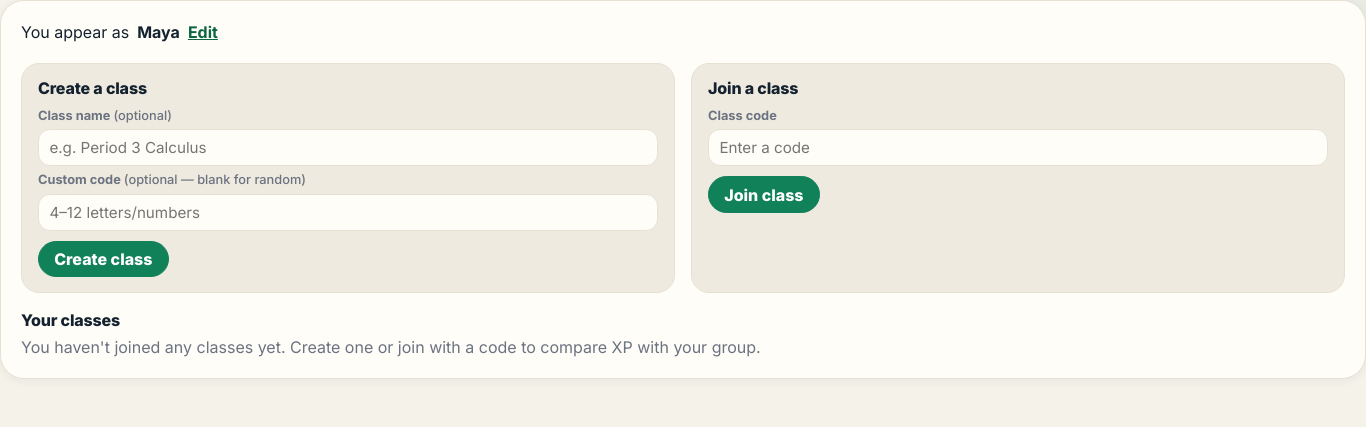
it: ClassesPanel create › surfaces a duplicate-code error from the data layer
Type "DUPE12" into the field labelled "Custom code (optional — blank for random)" at (348, 212), box [38, 194, 658, 231]
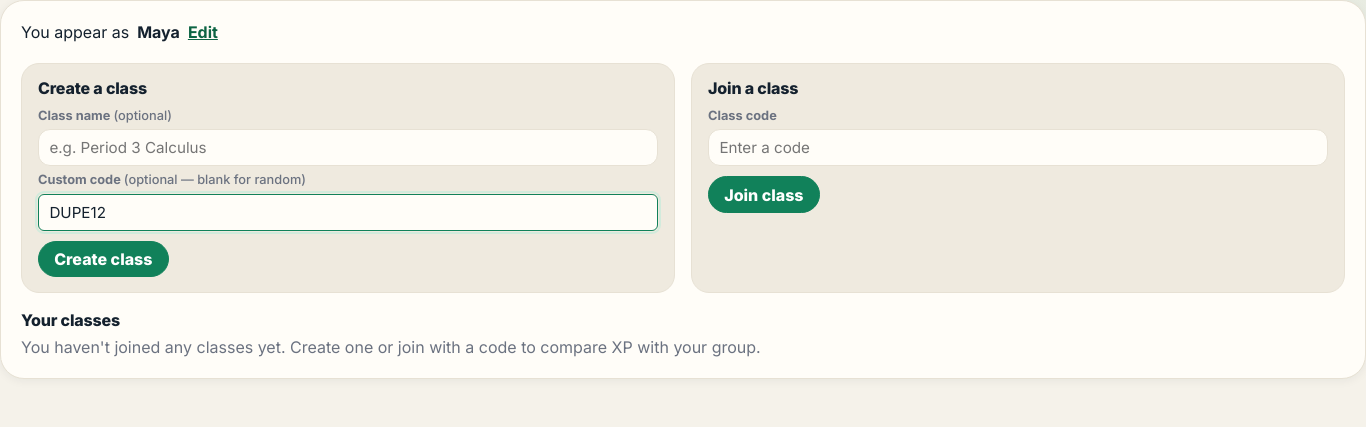
Click the button "Create class" at (103, 259), box [38, 241, 169, 278]
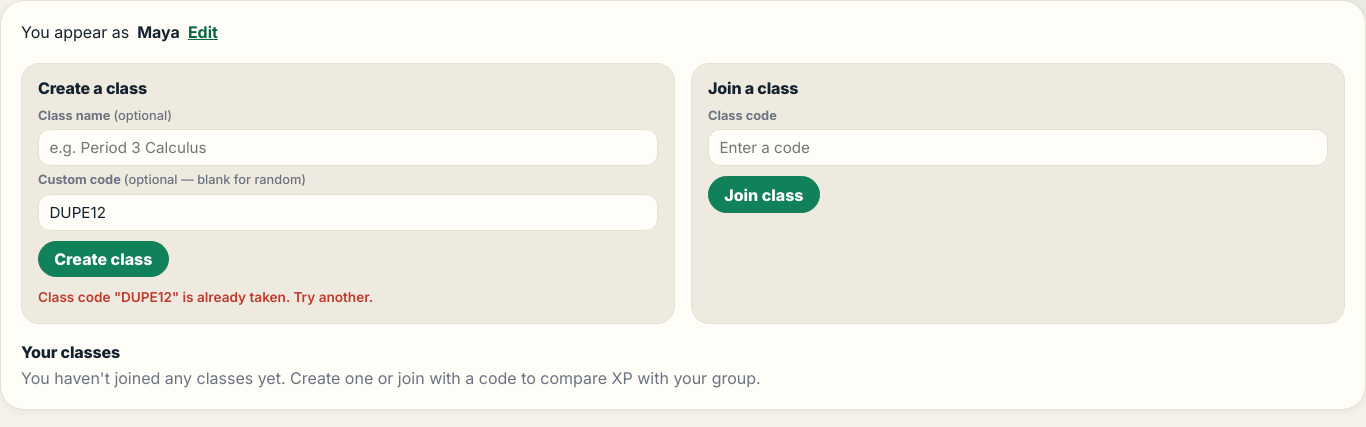
Check: the message shows "already taken", box [38, 289, 373, 305]
